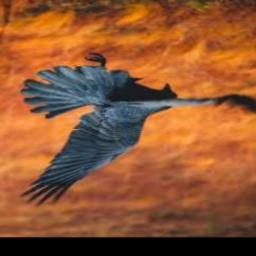Crow: (19, 54, 256, 209)
